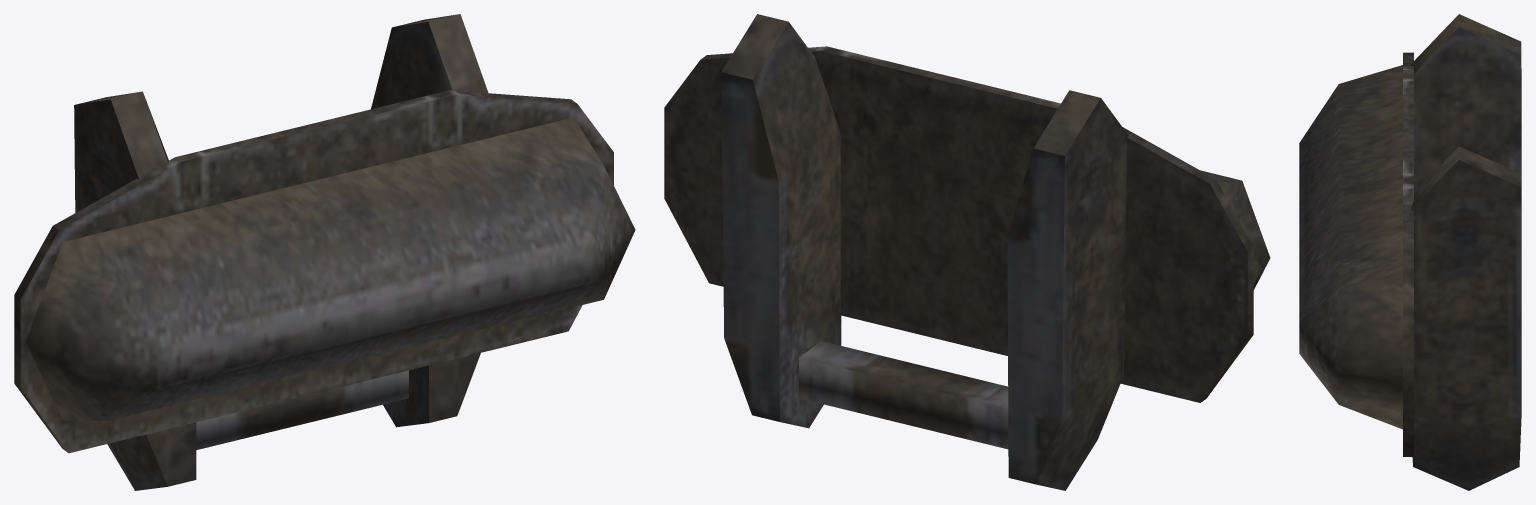
3 views of the same model, side by side, from view 1: azimuth 30°, elevation 25°; view 2: azimuth 150°, elevation 25°; view 3: azimuth 270°, elevation 25° (orthographic). The views are drawn at different scales.
Parts seen in each view (by area): view 1: set_0_group_0; view 2: set_0_group_0; view 3: set_0_group_0.
Boxes of the visible parts, x1,y1,x2,y2 form: set_0_group_0: [14, 14, 635, 490]; set_0_group_0: [664, 14, 1270, 490]; set_0_group_0: [1299, 14, 1521, 490].
Bounding box in the file's own units: 0.5 × 0.3246 × 0.19.
1 material, 1 textured.
